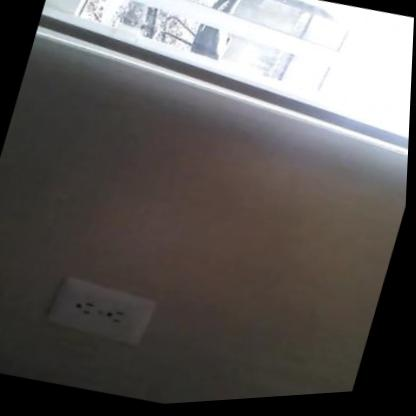OUTLET: (44, 271, 160, 354)
